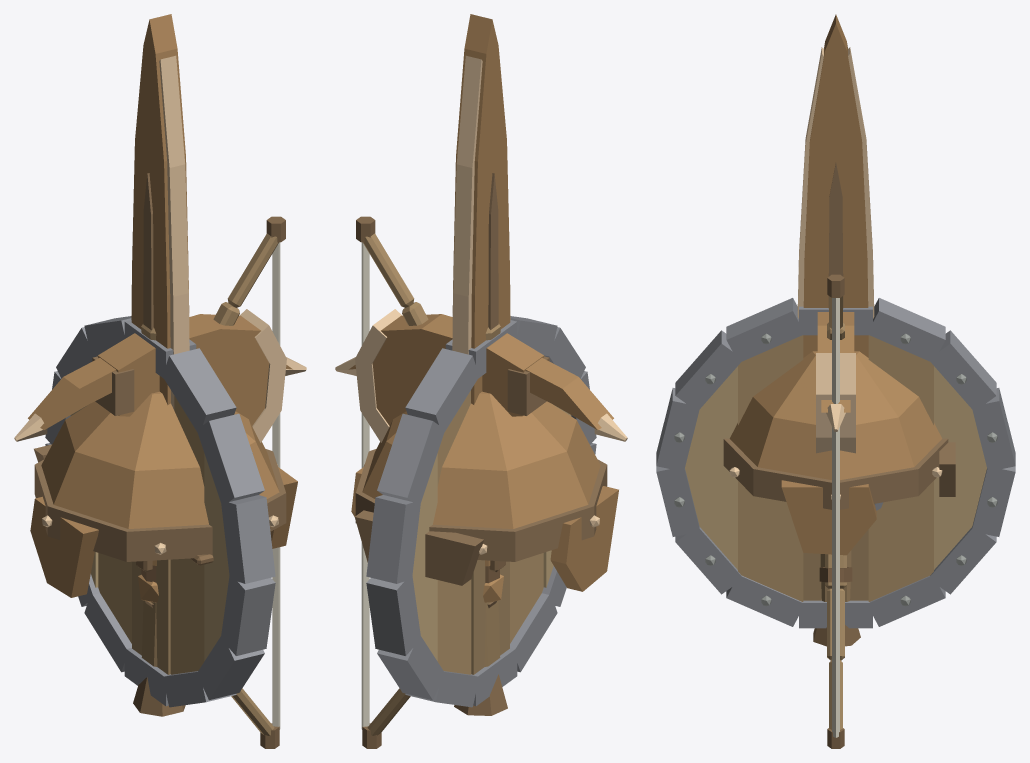
File: worn_gear_starter_v1.glb
3 views of the same model, side by side, from view 1: azimuth 30°, elevation 25°; view 2: azimuth 150°, elevation 25°; view 3: azimuth 270°, elevation 25° (orthographic). The views are drawn at different scales.
Parts seen in each view (by area): view 1: GearshieldRuntimeMesh, GearhelmRuntimeMesh, GearswordRuntimeMesh, GearhatchetRuntimeMesh, GearshortbowRuntimeMesh, GearpickaxeRuntimeMesh; view 2: GearshieldRuntimeMesh, GearhelmRuntimeMesh, GearswordRuntimeMesh, GearhatchetRuntimeMesh, GearshortbowRuntimeMesh, GearpickaxeRuntimeMesh; view 3: GearshieldRuntimeMesh, GearhelmRuntimeMesh, GearswordRuntimeMesh, GearshortbowRuntimeMesh, GearhatchetRuntimeMesh, GearpickaxeRuntimeMesh.
Part boxes in pixels (bbox=[...]): GearshieldRuntimeMesh: bbox=[45, 316, 275, 707]; GearhelmRuntimeMesh: bbox=[30, 391, 297, 597]; GearswordRuntimeMesh: bbox=[131, 14, 189, 607]; GearhatchetRuntimeMesh: bbox=[92, 309, 286, 442]; GearshortbowRuntimeMesh: bbox=[213, 216, 285, 748]; GearpickaxeRuntimeMesh: bbox=[14, 357, 306, 716]; GearshieldRuntimeMesh: bbox=[366, 316, 596, 707]; GearhelmRuntimeMesh: bbox=[351, 391, 618, 591]; GearswordRuntimeMesh: bbox=[452, 14, 510, 607]; GearhatchetRuntimeMesh: bbox=[355, 309, 549, 715]; GearshortbowRuntimeMesh: bbox=[356, 216, 428, 748]; GearpickaxeRuntimeMesh: bbox=[335, 357, 627, 715]; GearshieldRuntimeMesh: bbox=[656, 298, 1015, 628]; GearhelmRuntimeMesh: bbox=[723, 351, 955, 555]; GearswordRuntimeMesh: bbox=[797, 14, 874, 357]; GearshortbowRuntimeMesh: bbox=[819, 274, 852, 748]; GearhatchetRuntimeMesh: bbox=[816, 312, 855, 645]; GearpickaxeRuntimeMesh: bbox=[813, 400, 860, 646].
Bounding box in the file's own units: 0.5552 × 1.38 × 0.6607.
